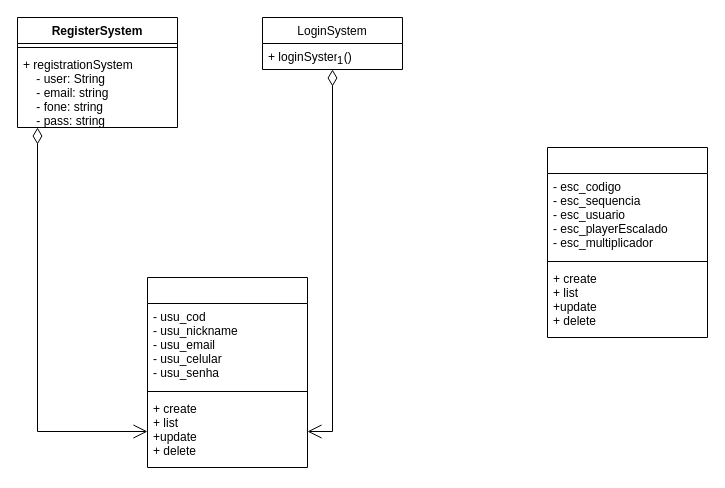
This 725x488 diagram has some shape labels left out. Each missing label, with the box of its shape:
EscalacaoDAO: (546, 146, 708, 338)
UsuarioDAO: (146, 276, 308, 468)
